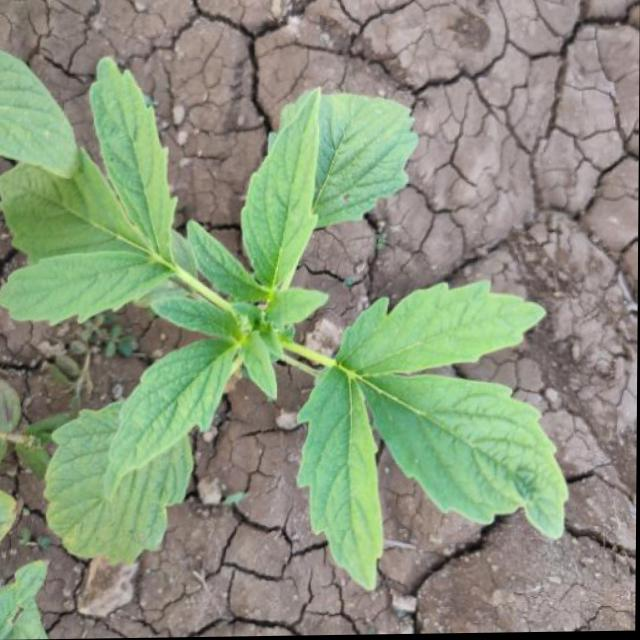crop: (9, 79, 585, 605)
